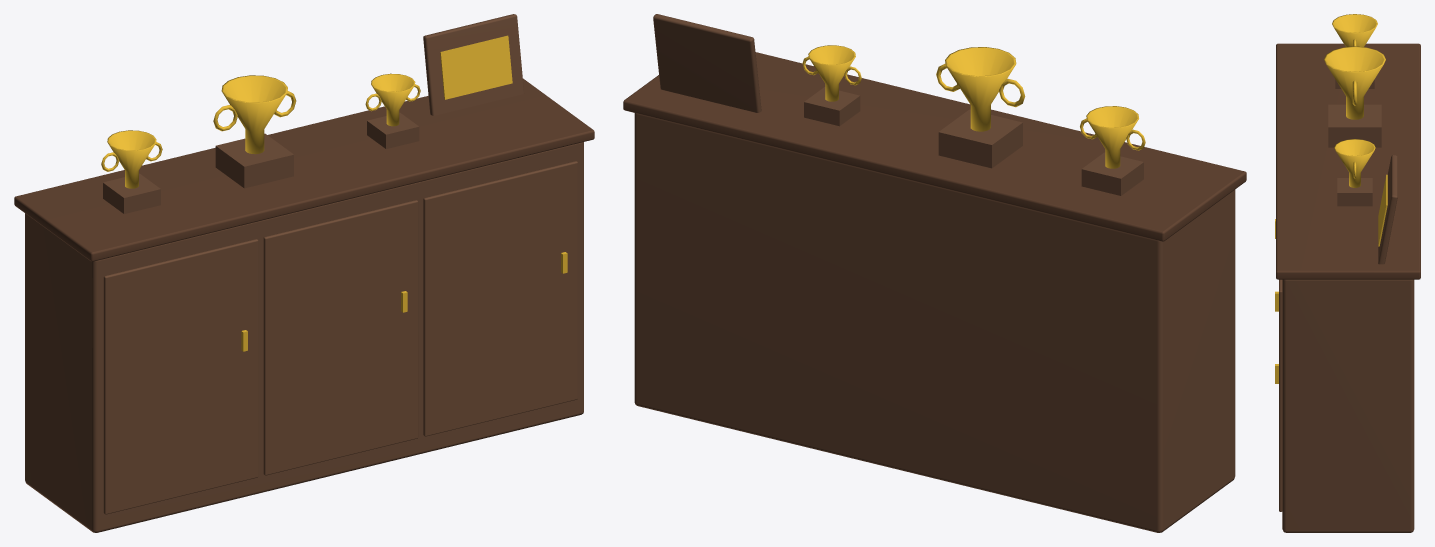
The model's file is TrophyShelf.fbx.
The picture shows the model from 3 angles, left to right: view 1: azimuth 30°, elevation 25°; view 2: azimuth 150°, elevation 25°; view 3: azimuth 270°, elevation 25°; orthographic projection. The views are drawn at different scales.
Visible parts, largest first — view 1: TrophyShelfBody, Door__swap.002, Door, Door__swap.001; view 2: TrophyShelfBody; view 3: TrophyShelfBody, Door__swap.001.
Part boxes in pixels (x1,y1,x2,y2): TrophyShelfBody: (14, 14, 594, 532); Door__swap.002: (263, 200, 418, 475); Door: (103, 239, 258, 514); Door__swap.001: (423, 161, 577, 436); TrophyShelfBody: (623, 14, 1246, 532); TrophyShelfBody: (1275, 14, 1420, 532); Door__swap.001: (1279, 279, 1282, 511).
Bounding box in the file's own units: 1.64 × 1.15 × 0.4425.
